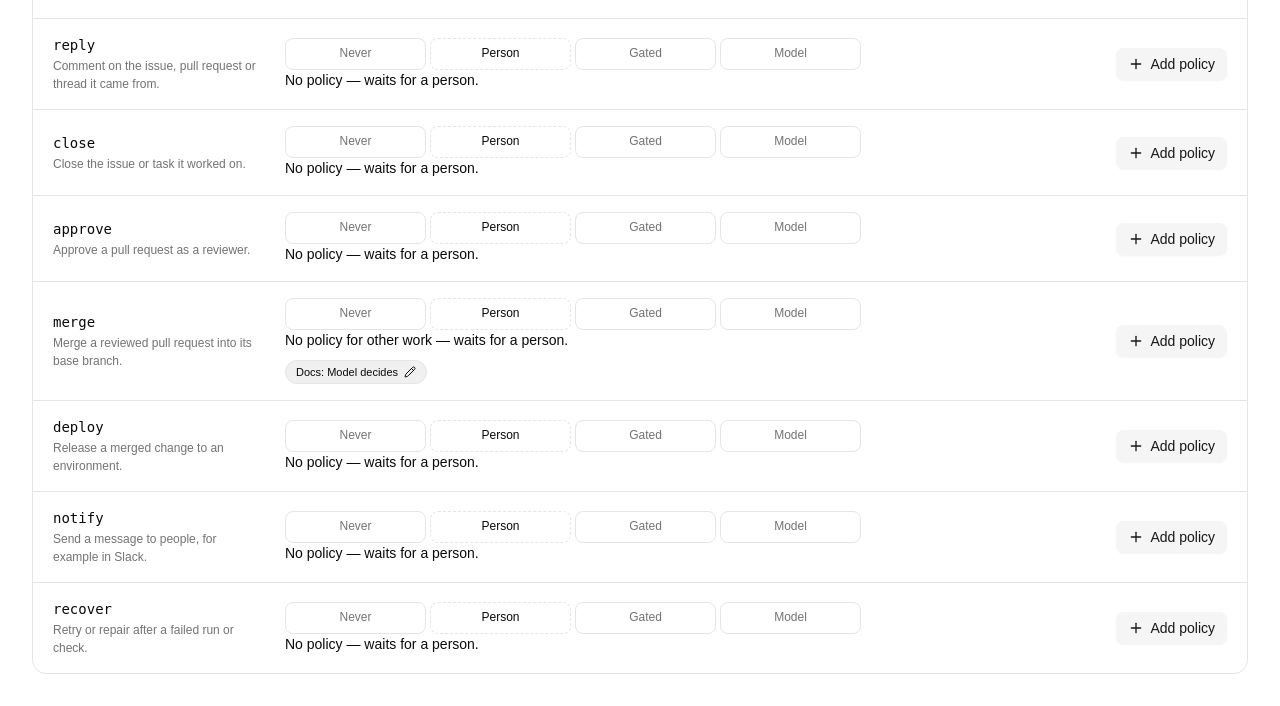
Test: FactoryPolicies › reports a failed delete instead of silently keeping the row
(page scrolled)
Click the button with aria-label "edit merge policy".
click(356, 372)  # box [285,360,427,384]
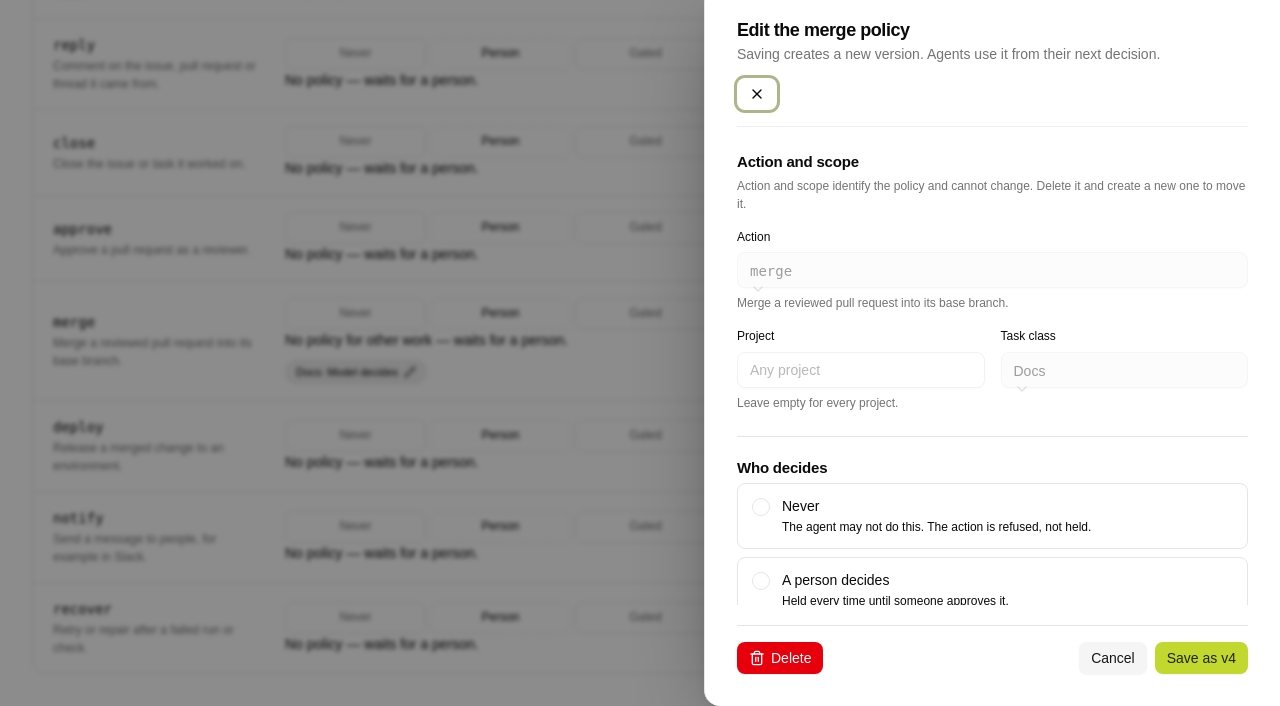
Click the button with aria-label "Delete merge policy".
click(780, 658)  # box [737,642,824,674]
(page scrolled)
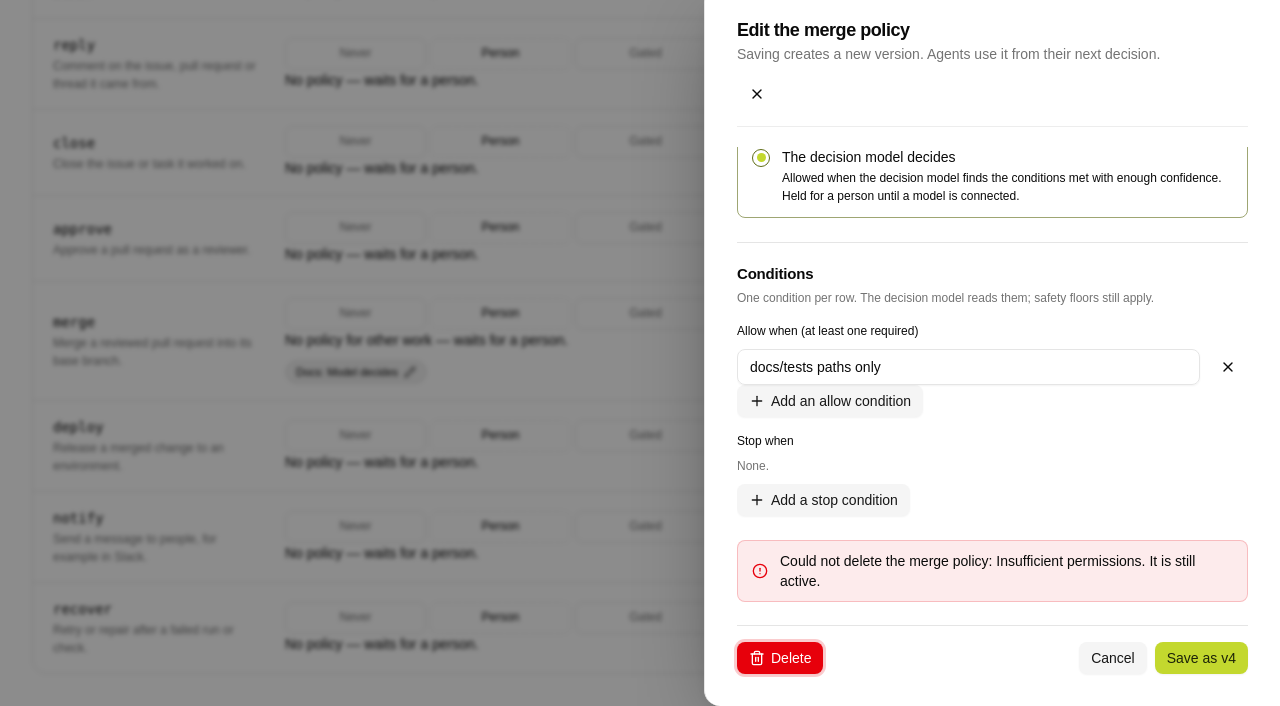
Check: the message shows "Could not delete the merge policy", box [780,553,1195,589]
